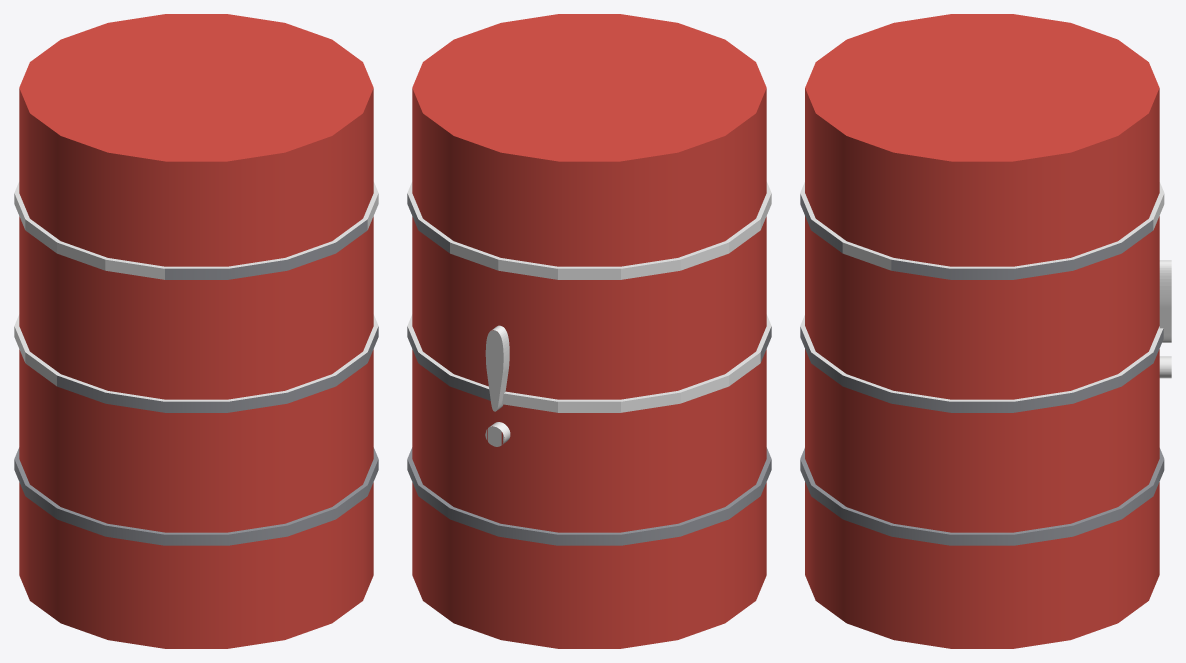
The model's file is barrel_red.glb.
3 renders of one model, left to right at view 1: azimuth 30°, elevation 25°; view 2: azimuth 150°, elevation 25°; view 3: azimuth 270°, elevation 25°, orthographic.
Visible parts, largest first — view 1: barrel_red; view 2: barrel_red; view 3: barrel_red.
Boxes of the visible parts, x1,y1,x2,y2 form: barrel_red: (14,14,378,648); barrel_red: (407,14,771,648); barrel_red: (800,14,1171,648).
Size of the model in its own units: 0.5869 by 0.88 by 0.608.
